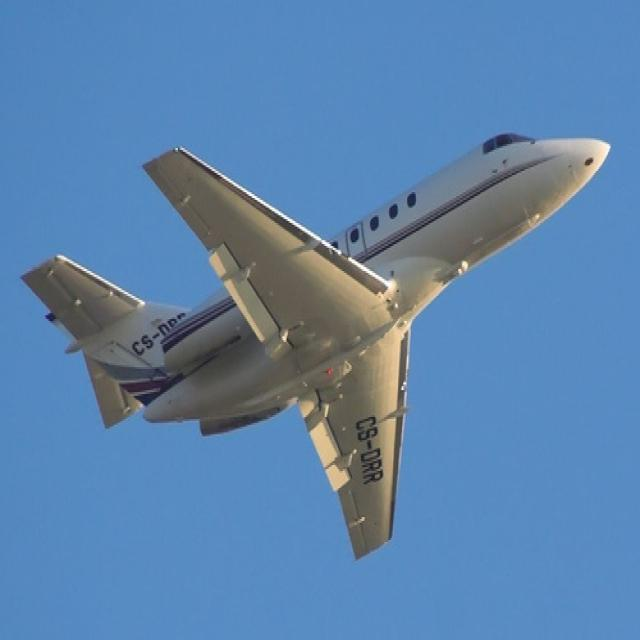aeroplane: (19, 130, 613, 562)
